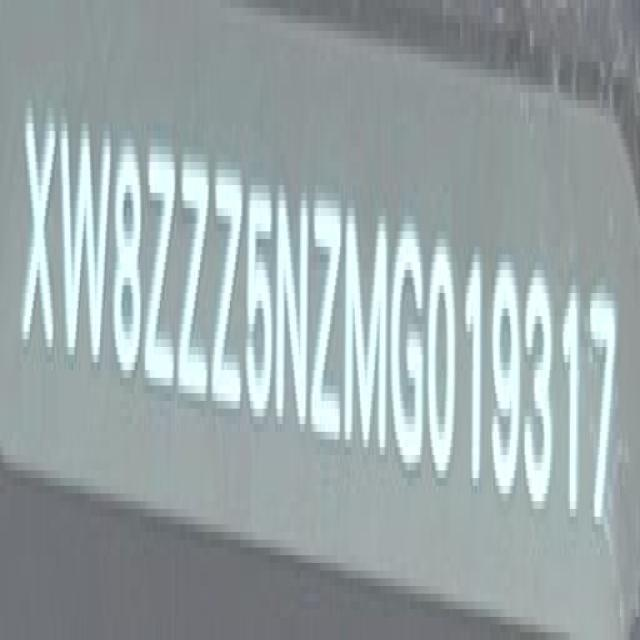0: (427, 226, 458, 488)
1: (560, 275, 583, 531), (464, 235, 485, 495)
3: (524, 267, 556, 518)
5: (247, 168, 276, 428)
7: (591, 279, 622, 537)
8: (115, 132, 144, 389)
9: (490, 257, 524, 511)
G: (388, 214, 424, 477)
M: (344, 196, 389, 466)
N: (278, 176, 313, 443)
W: (57, 105, 111, 383)
X: (20, 95, 56, 374)
Z: (212, 151, 245, 420), (180, 140, 212, 412), (312, 182, 343, 455), (144, 130, 174, 397)
